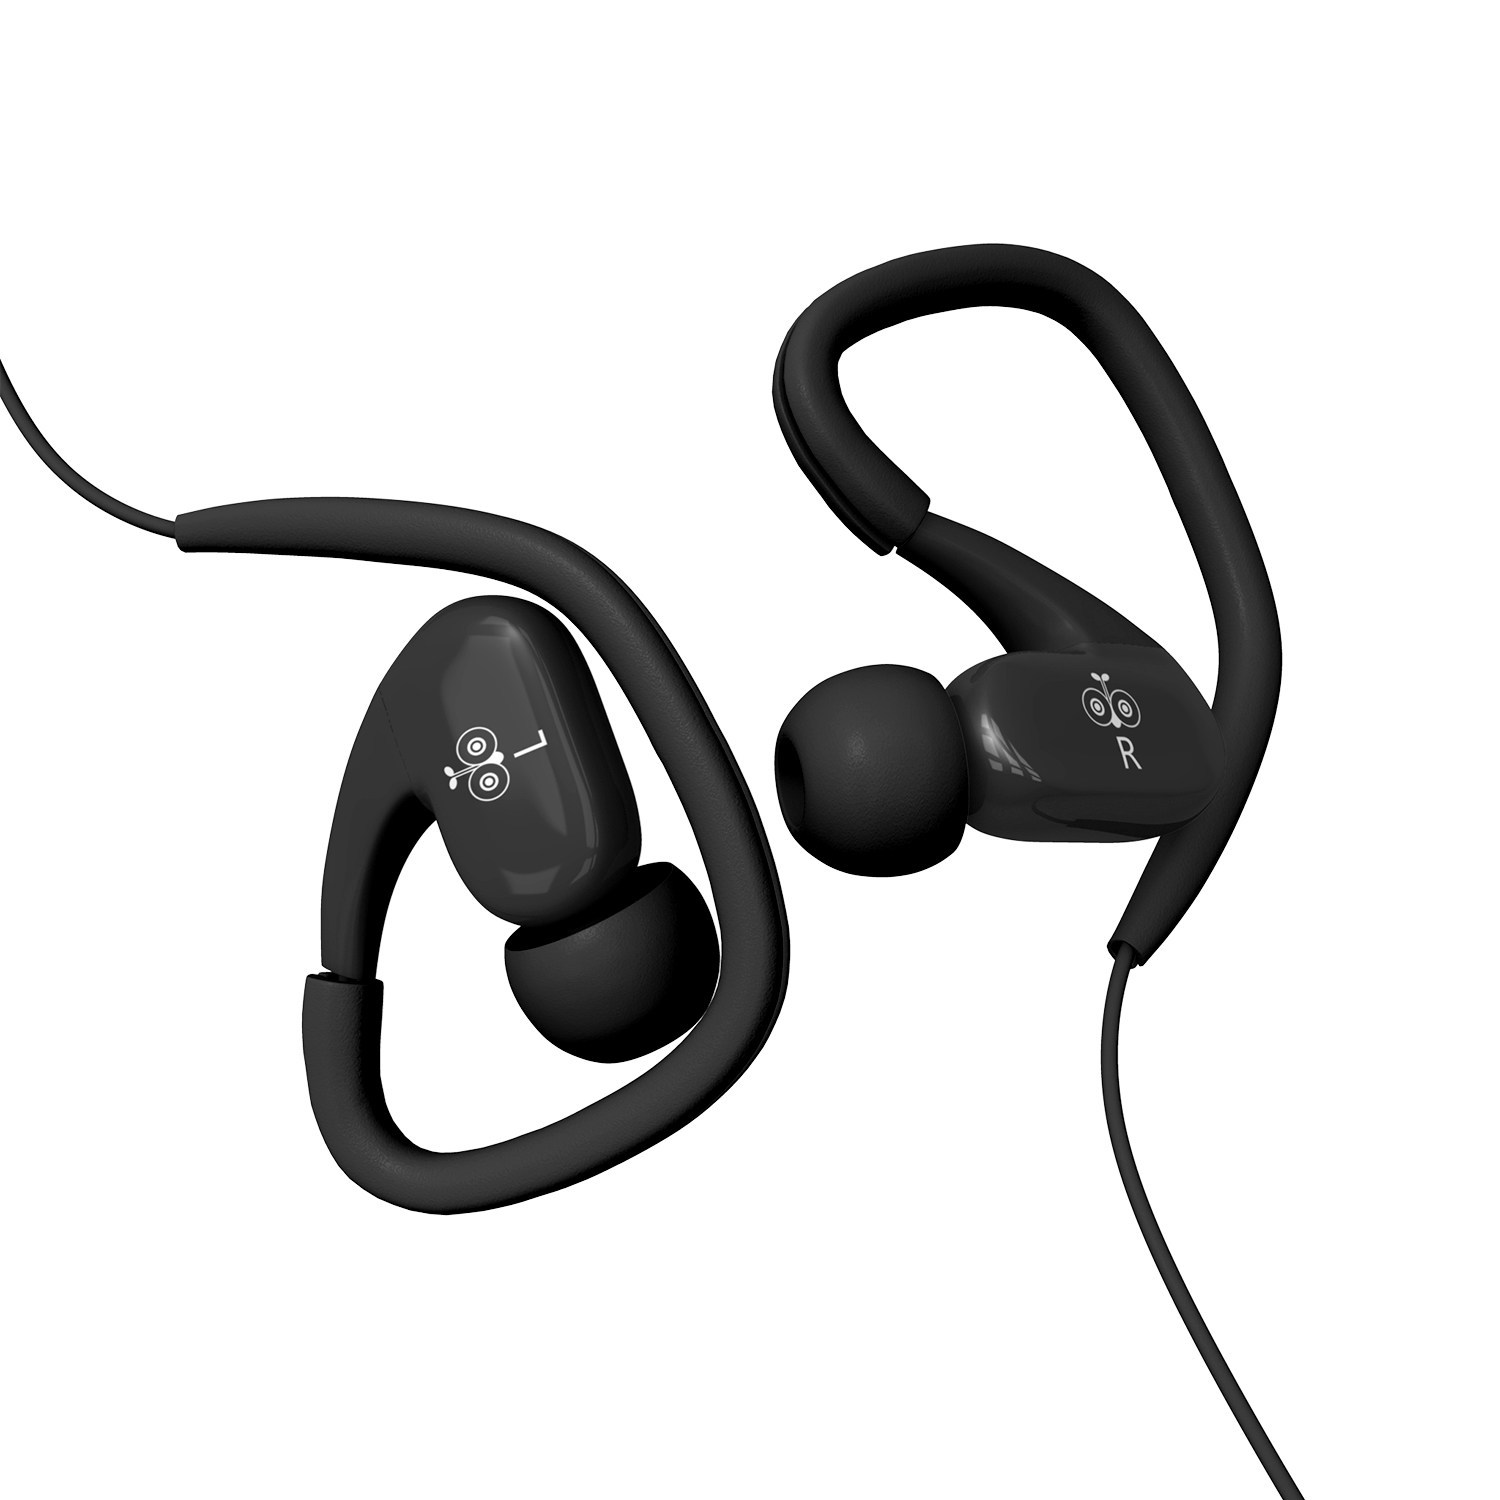Headphone: (266, 221, 1279, 1234)
